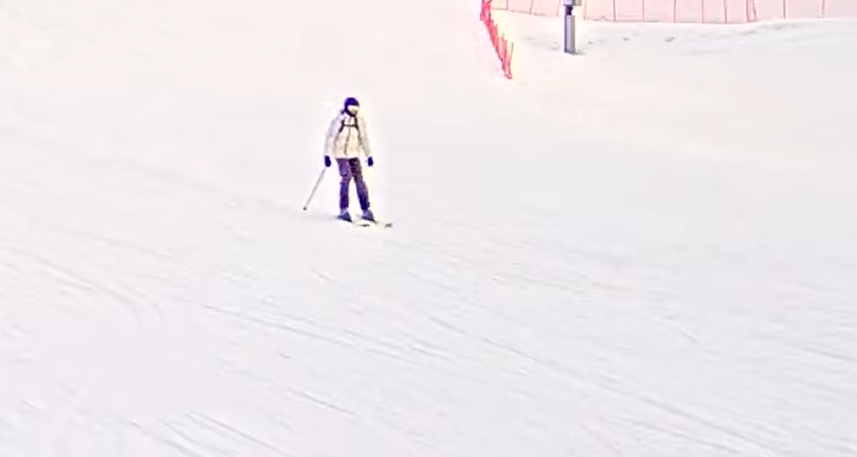skier: (296, 95, 396, 230)
